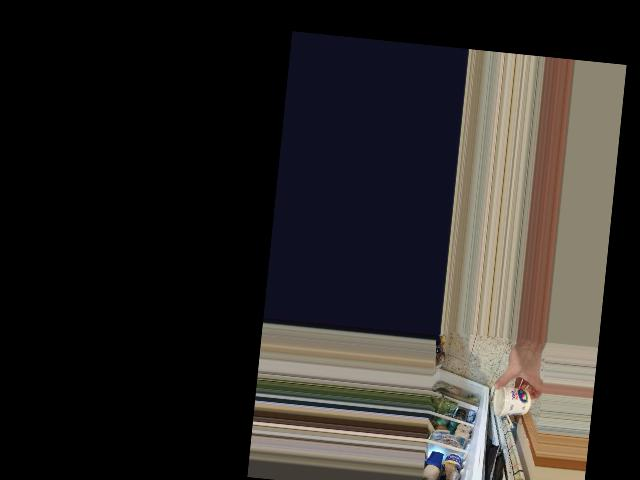cotage: (488, 384, 531, 417)
